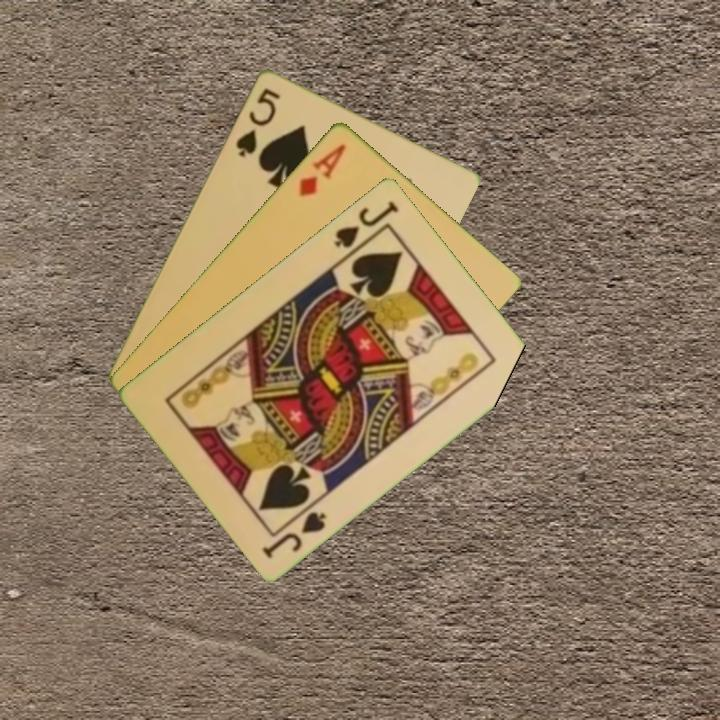5s: (231, 84, 283, 160)
Ad: (295, 139, 349, 199)
Js: (330, 196, 402, 251), (258, 507, 330, 561)
